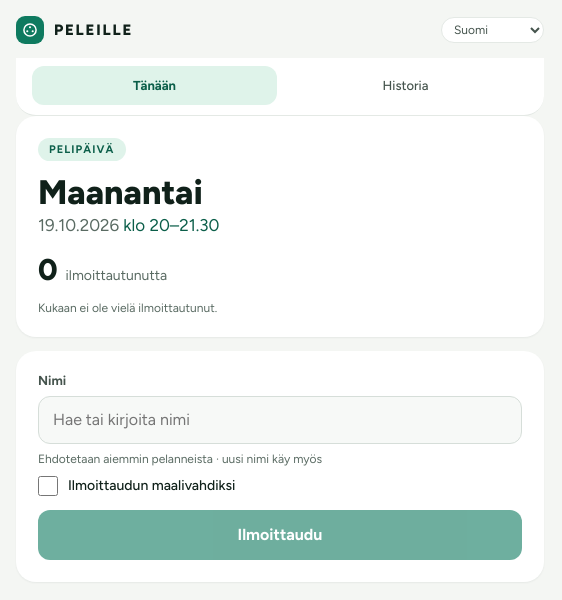
Scenario: the switcher › still switches when storage refuses to remember
Expected: the link "Tänään" is shown, [32,66,277,105]
Select "English" in the dropdown named "Kieli": {"x": 492, "y": 30} [441,17,544,43]
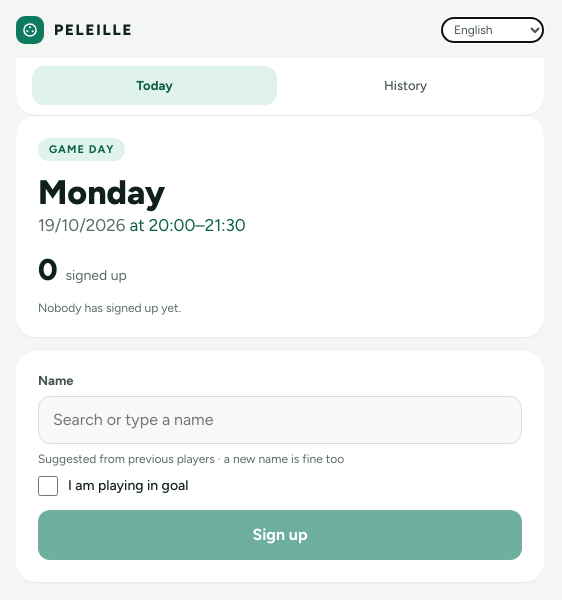
Expected: the link "Today" is shown, [32,66,277,105]
